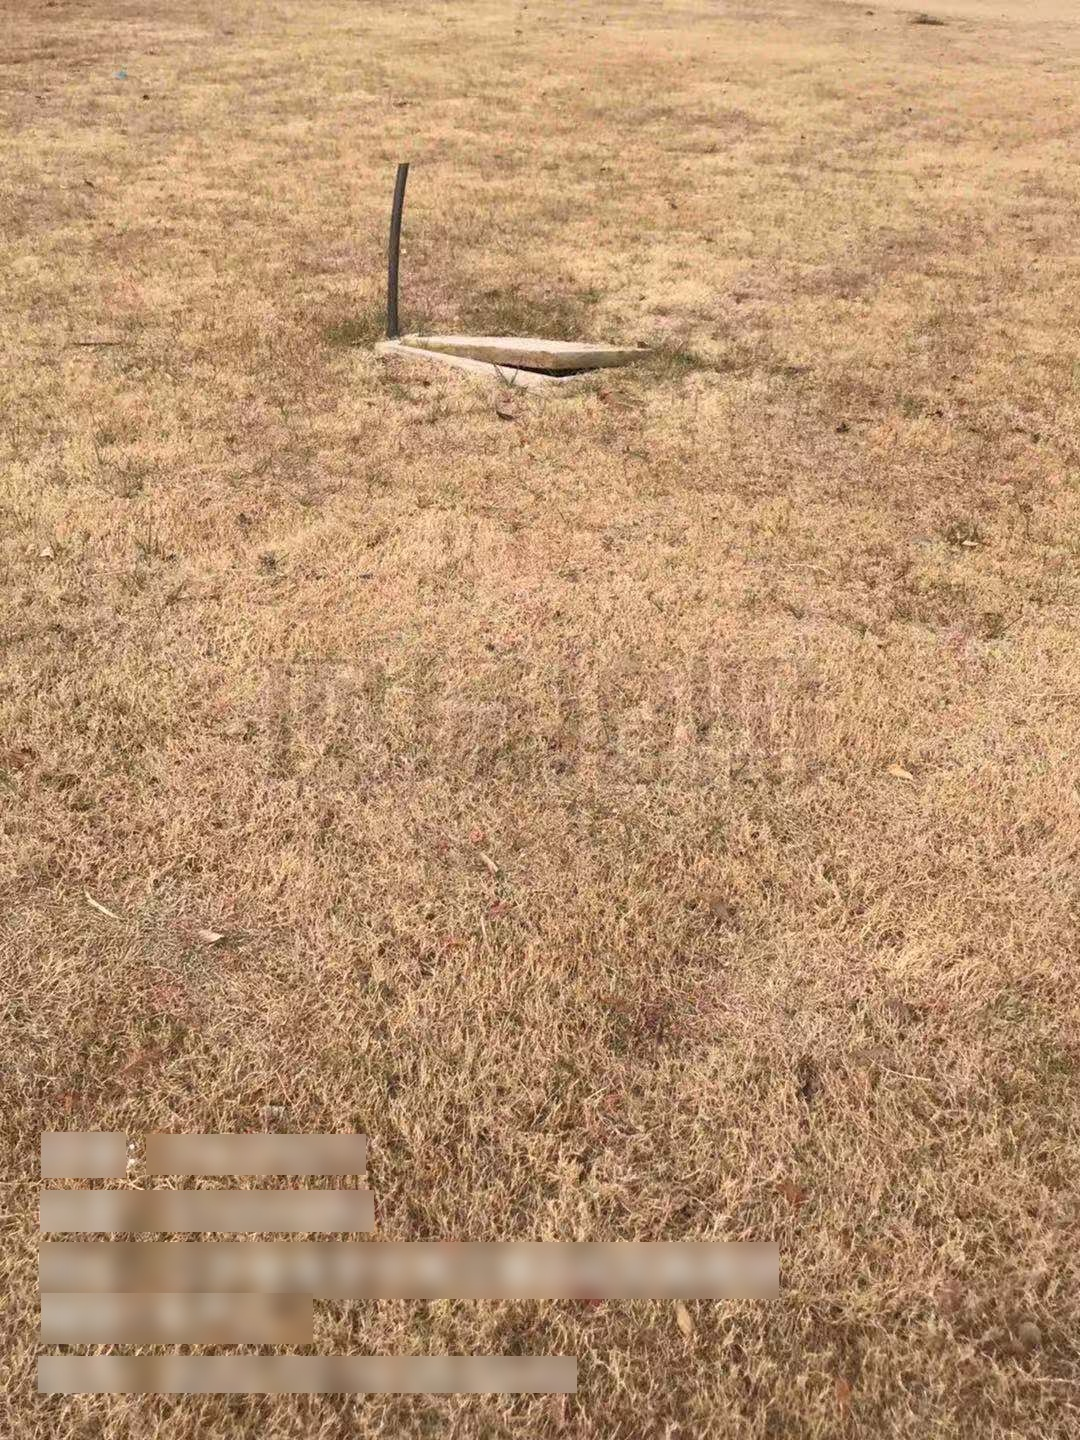uncovered: (372, 333, 673, 395)
